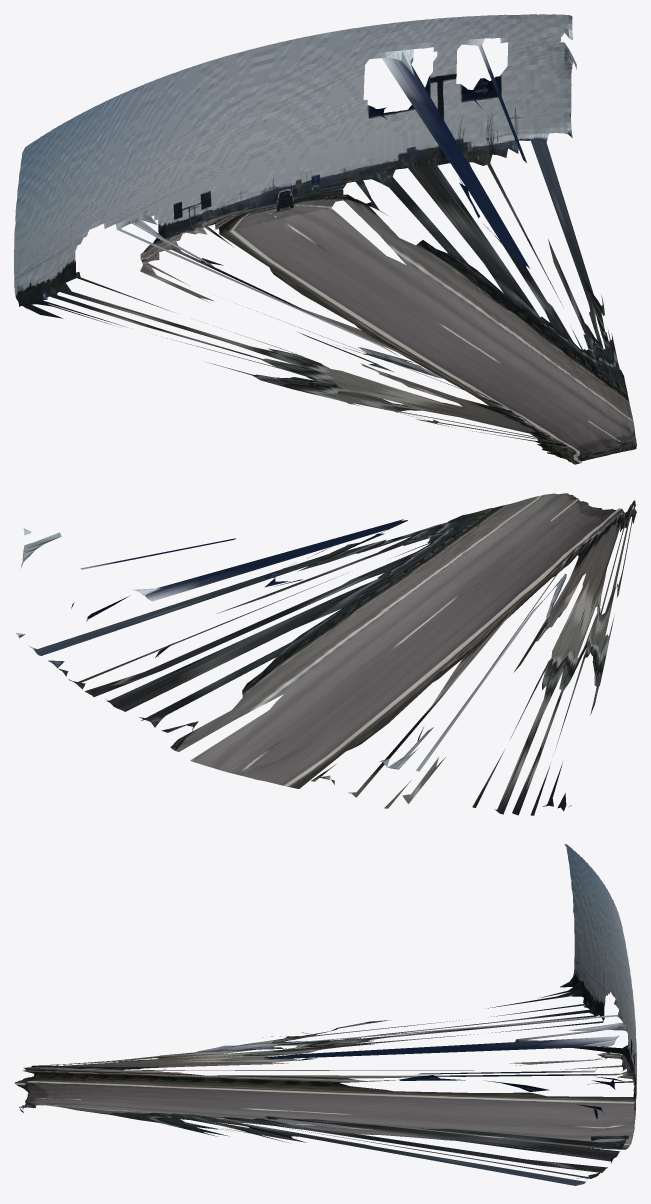
3 views of the same model, one above another, from view 1: azimuth 30°, elevation 25°; view 2: azimuth 150°, elevation 25°; view 3: azimuth 270°, elevation 25° (orthographic). The views are drawn at different scales.
Parts seen in each view (by area): view 1: defaultobject; view 2: defaultobject; view 3: defaultobject.
Part boxes in pixels (bbox=[...]): defaultobject: bbox=[14, 14, 636, 464]; defaultobject: bbox=[16, 493, 636, 815]; defaultobject: bbox=[14, 844, 636, 1185].
Size of the model in its own units: 41.12 by 13.17 by 44.77.
Materials: 1 (1 with a texture image).
